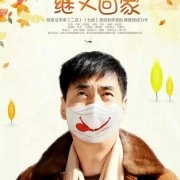Mask: (66, 82, 126, 142)
